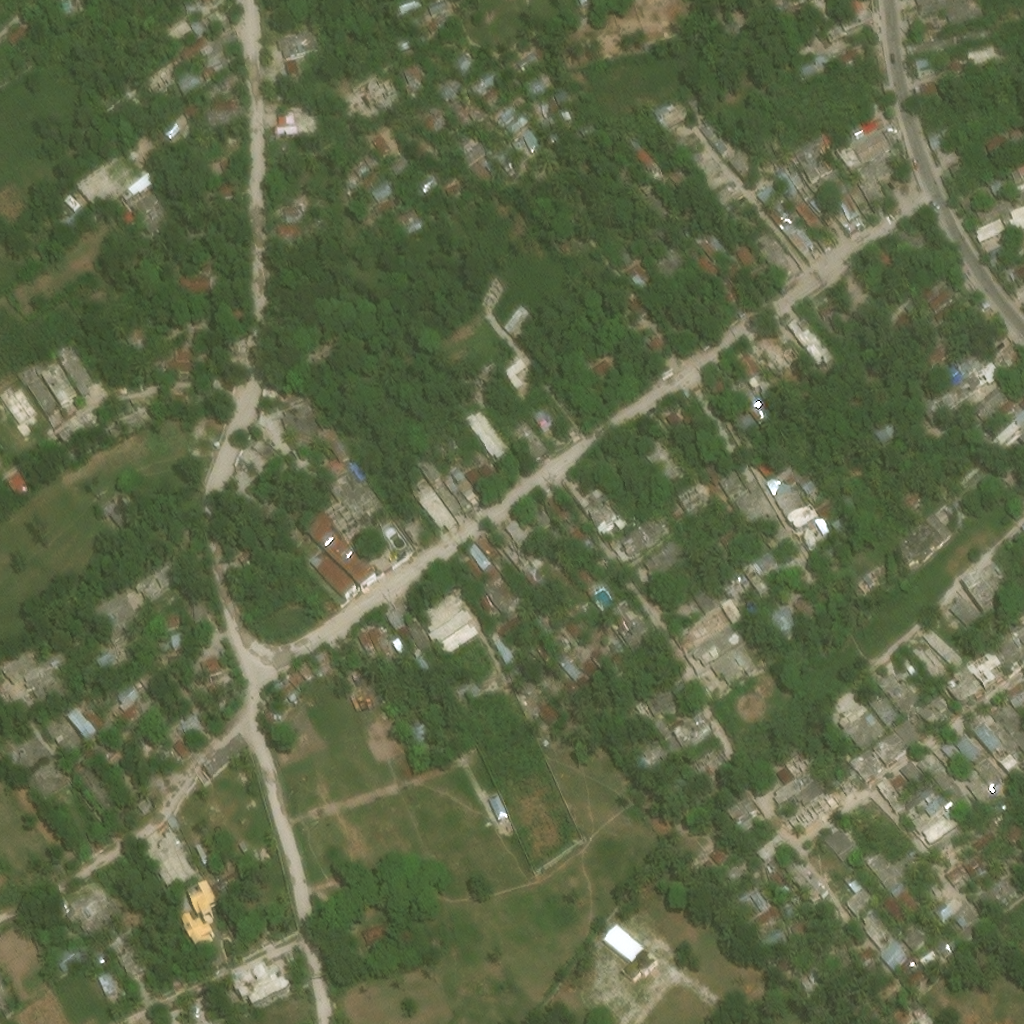minor_damage: (4, 731, 71, 801), (854, 717, 924, 783), (920, 757, 978, 824), (889, 506, 950, 568), (870, 859, 936, 907), (330, 467, 378, 532), (51, 415, 102, 470), (31, 704, 83, 755), (55, 347, 101, 403), (0, 643, 66, 682), (782, 310, 832, 361), (71, 758, 119, 811), (731, 475, 778, 529), (233, 964, 292, 1007), (67, 893, 124, 937), (660, 713, 715, 758), (838, 700, 887, 750), (173, 51, 233, 91), (614, 519, 668, 563), (639, 538, 689, 584), (778, 872, 833, 913), (921, 699, 972, 740), (580, 492, 624, 539), (694, 623, 744, 664), (875, 667, 920, 712), (842, 125, 892, 165), (786, 132, 828, 179), (26, 379, 67, 427), (988, 701, 1023, 757), (852, 142, 902, 181), (613, 123, 655, 168), (977, 876, 1023, 917), (205, 736, 252, 776), (507, 417, 549, 461), (463, 406, 502, 452), (915, 803, 957, 844), (733, 380, 772, 423), (131, 561, 180, 595), (97, 490, 137, 531), (79, 159, 120, 199), (712, 641, 753, 680), (976, 182, 1023, 216), (622, 616, 660, 657), (111, 938, 148, 980), (720, 793, 757, 832), (455, 674, 500, 706), (977, 554, 1012, 595), (789, 44, 832, 77), (946, 668, 984, 705), (638, 174, 673, 214), (787, 187, 822, 227), (192, 31, 234, 64), (934, 483, 971, 520), (182, 880, 217, 918), (995, 621, 1023, 668), (100, 609, 142, 640), (94, 595, 136, 625), (129, 187, 164, 222), (767, 601, 801, 637), (887, 221, 925, 253), (906, 788, 942, 821), (734, 881, 772, 912), (916, 0, 977, 19), (947, 590, 981, 624), (968, 375, 1003, 408), (974, 724, 1007, 759), (276, 28, 318, 55), (751, 225, 784, 259), (865, 694, 899, 727), (935, 833, 970, 865), (918, 389, 951, 422), (974, 653, 1007, 686), (946, 365, 979, 398), (751, 905, 785, 937), (976, 759, 1005, 796), (657, 247, 689, 280), (698, 744, 731, 776), (565, 525, 596, 558), (209, 868, 244, 897), (768, 155, 796, 191), (867, 408, 898, 439), (691, 584, 723, 614), (525, 500, 555, 532), (405, 617, 434, 650), (32, 670, 62, 701), (355, 621, 385, 651), (866, 924, 896, 954), (632, 744, 661, 775), (793, 777, 825, 805), (109, 696, 143, 722), (683, 847, 709, 881), (676, 483, 706, 512), (461, 460, 490, 490), (849, 898, 879, 927), (883, 775, 912, 805), (835, 183, 863, 214), (967, 778, 995, 809), (799, 521, 831, 548), (189, 4, 222, 30), (5, 466, 34, 495), (786, 464, 816, 492), (361, 921, 392, 948), (956, 180, 988, 206), (489, 708, 521, 734), (117, 315, 146, 343), (696, 227, 725, 255), (772, 201, 800, 230), (533, 697, 562, 725), (452, 102, 484, 127), (724, 144, 752, 172), (586, 351, 614, 379), (906, 963, 934, 991), (958, 339, 987, 366), (731, 342, 758, 371), (847, 949, 876, 976), (514, 43, 544, 69), (524, 72, 554, 98), (950, 19, 989, 39), (204, 106, 245, 125), (786, 505, 818, 529), (905, 29, 946, 47), (867, 239, 894, 266), (407, 717, 434, 744), (738, 562, 766, 588), (456, 476, 482, 504), (350, 144, 379, 169), (567, 116, 596, 141), (179, 31, 208, 56), (451, 47, 476, 76), (623, 257, 650, 283), (668, 208, 694, 235), (956, 737, 982, 764), (79, 698, 104, 726), (487, 583, 512, 611), (1002, 674, 1023, 707), (557, 654, 582, 681), (0, 972, 16, 1014), (515, 127, 539, 155), (627, 288, 651, 316), (461, 554, 485, 582), (533, 611, 557, 639), (670, 119, 696, 144), (691, 250, 717, 275), (792, 589, 817, 615), (648, 714, 673, 740), (901, 766, 925, 793), (717, 466, 740, 494), (494, 639, 517, 667), (705, 369, 730, 394), (964, 857, 989, 882), (367, 126, 391, 152), (712, 271, 736, 297), (702, 614, 729, 637), (526, 564, 549, 591), (371, 188, 399, 210), (466, 155, 490, 180), (970, 406, 995, 430), (476, 453, 500, 478), (293, 660, 317, 685), (886, 303, 910, 327), (321, 455, 345, 479), (758, 837, 782, 861), (974, 833, 998, 857), (763, 931, 789, 953), (765, 180, 786, 207), (198, 654, 222, 677), (666, 156, 689, 180), (815, 295, 838, 319), (318, 423, 341, 447), (520, 650, 543, 674), (412, 140, 434, 165), (929, 292, 954, 314), (388, 613, 410, 638), (662, 405, 682, 432), (4, 17, 27, 40), (587, 645, 610, 668), (262, 422, 286, 444), (426, 7, 451, 28), (0, 677, 17, 707), (386, 150, 409, 172), (461, 137, 484, 159), (402, 64, 425, 86), (724, 197, 747, 219), (754, 454, 776, 477), (725, 865, 747, 888), (705, 841, 728, 863), (98, 973, 119, 997), (911, 69, 936, 89), (981, 124, 1006, 144), (786, 227, 808, 249), (783, 488, 805, 510), (470, 74, 493, 95), (646, 330, 667, 353), (722, 256, 743, 279), (924, 281, 947, 302), (575, 567, 596, 590), (769, 556, 793, 576), (437, 76, 459, 97), (493, 143, 514, 165), (718, 10, 740, 31), (816, 494, 838, 515), (179, 711, 202, 731), (355, 167, 378, 187), (478, 85, 501, 105), (478, 534, 498, 557), (271, 680, 295, 699), (907, 934, 928, 955), (112, 686, 133, 706), (117, 412, 138, 432), (494, 102, 515, 122), (483, 562, 504, 582), (863, 1002, 884, 1022), (475, 590, 494, 612), (676, 83, 696, 103), (818, 543, 838, 563), (240, 548, 260, 568), (881, 988, 901, 1008), (695, 107, 714, 128), (912, 277, 933, 296), (91, 753, 111, 772), (60, 190, 80, 209), (683, 140, 703, 159), (614, 245, 633, 265), (582, 660, 602, 679), (899, 958, 919, 977), (969, 752, 989, 771), (97, 640, 118, 658), (420, 108, 438, 129), (274, 217, 299, 232), (104, 420, 123, 439), (504, 114, 523, 133), (736, 411, 755, 430), (716, 524, 735, 543), (173, 736, 191, 756), (279, 196, 299, 214), (945, 150, 965, 168), (949, 875, 969, 893), (212, 175, 235, 190), (1008, 375, 1023, 398), (138, 669, 156, 688), (215, 146, 233, 165), (578, 597, 596, 616), (942, 742, 960, 761), (61, 0, 80, 18), (282, 54, 298, 75), (193, 599, 208, 621), (412, 179, 430, 197), (983, 229, 1001, 247), (311, 650, 329, 668), (168, 759, 187, 776), (538, 114, 555, 133), (994, 388, 1013, 405), (473, 549, 490, 568), (149, 764, 169, 780), (392, 204, 412, 220), (942, 48, 962, 64), (708, 127, 725, 145), (645, 224, 663, 241), (804, 186, 821, 204), (816, 124, 834, 141), (577, 675, 595, 692), (805, 966, 823, 983), (910, 20, 930, 35), (841, 39, 858, 56), (985, 172, 1002, 189), (441, 174, 459, 190), (423, 0, 447, 12), (448, 464, 464, 482), (441, 473, 457, 491), (610, 648, 626, 666), (862, 962, 880, 978), (153, 597, 172, 612), (207, 95, 235, 105), (960, 327, 976, 344), (915, 55, 933, 70), (783, 905, 801, 920), (1009, 252, 1023, 271), (445, 558, 459, 577), (168, 389, 188, 402), (166, 648, 183, 663), (1008, 825, 1023, 842), (1012, 272, 1023, 295), (164, 808, 178, 826), (184, 829, 198, 847), (773, 959, 791, 973), (169, 631, 185, 646), (937, 117, 952, 133), (563, 680, 579, 695), (1011, 405, 1023, 424), (120, 205, 135, 220), (803, 990, 818, 1005), (534, 641, 550, 655), (793, 920, 809, 934), (402, 11, 419, 24), (537, 96, 550, 113), (973, 590, 988, 604), (1013, 156, 1023, 175), (221, 11, 235, 24), (409, 82, 423, 95), (669, 504, 683, 517), (287, 692, 301, 705), (394, 45, 407, 58), (682, 412, 693, 427), (303, 195, 316, 207), (1014, 509, 1023, 526), (183, 0, 201, 8), (925, 123, 936, 136), (265, 707, 278, 718), (847, 0, 861, 9), (281, 949, 292, 960), (486, 161, 497, 171), (689, 244, 700, 254), (663, 520, 673, 530), (226, 997, 234, 1006), (870, 39, 878, 47), (521, 38, 529, 45)
no_damage: (307, 515, 378, 589), (309, 551, 355, 598), (281, 400, 323, 439), (823, 835, 863, 872), (948, 904, 981, 937), (175, 267, 210, 288), (273, 106, 299, 133), (884, 949, 909, 974), (774, 759, 795, 782), (163, 354, 191, 365), (172, 342, 190, 353)
unclassified: (680, 952, 705, 977), (310, 347, 332, 372), (176, 526, 194, 552), (463, 200, 482, 219), (598, 462, 616, 480), (855, 355, 865, 365)
